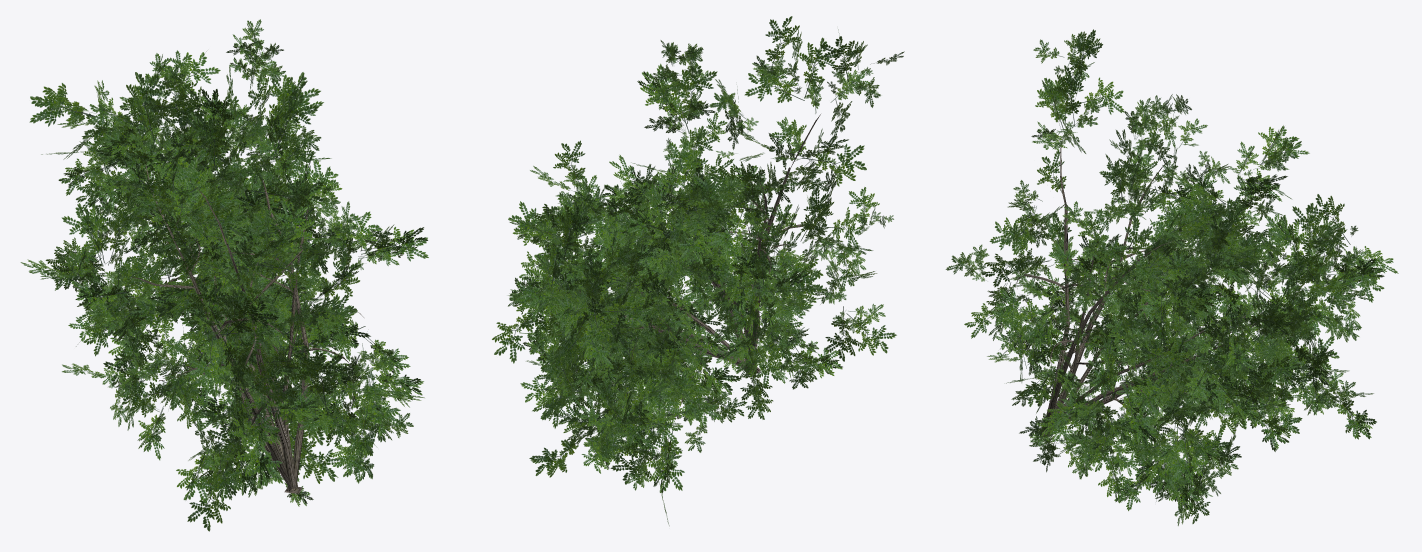
The model's file is arbusto_1.glb.
3 renders of one model, left to right at view 1: azimuth 30°, elevation 25°; view 2: azimuth 150°, elevation 25°; view 3: azimuth 270°, elevation 25°, orthographic. The views are drawn at different scales.
Visible parts, largest first — view 1: arbusto_1_hojas, arbusto_1_ramas; view 2: arbusto_1_hojas, arbusto_1_ramas; view 3: arbusto_1_hojas, arbusto_1_ramas.
Boxes of the visible parts, x1=… form: arbusto_1_hojas: x1=20, y1=19, x2=428, y2=531; arbusto_1_ramas: x1=129, y1=152, x2=363, y2=493; arbusto_1_hojas: x1=492, y1=16, x2=904, y2=525; arbusto_1_ramas: x1=559, y1=114, x2=831, y2=418; arbusto_1_hojas: x1=945, y1=29, x2=1398, y2=525; arbusto_1_ramas: x1=1016, y1=138, x2=1300, y2=438.
Size of the model in its own units: 1.59 by 2.26 by 2.14.
2 materials, 2 textured.
